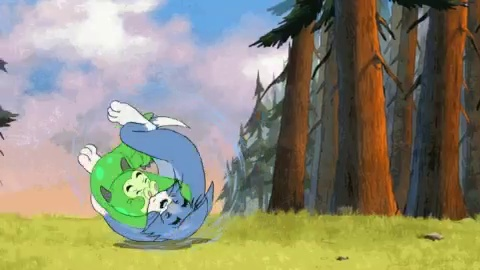tom: (75, 99, 217, 243)
